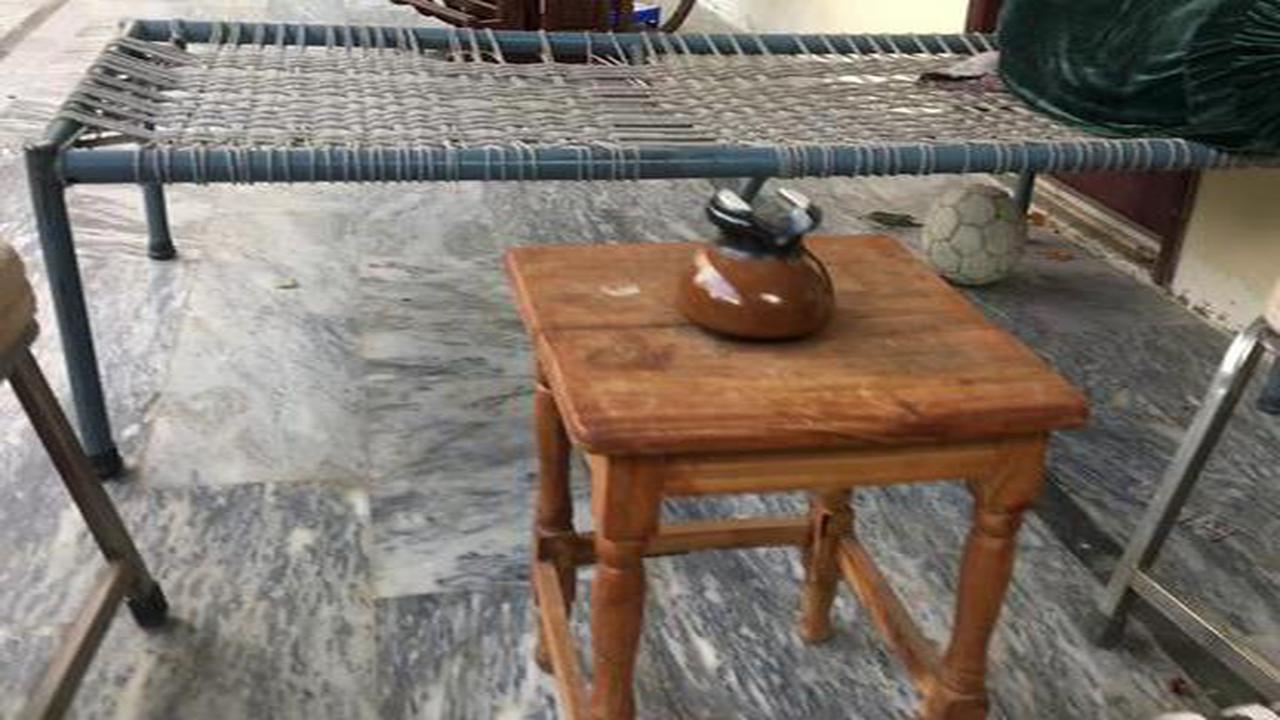insulator_pin: (653, 167, 859, 352)
